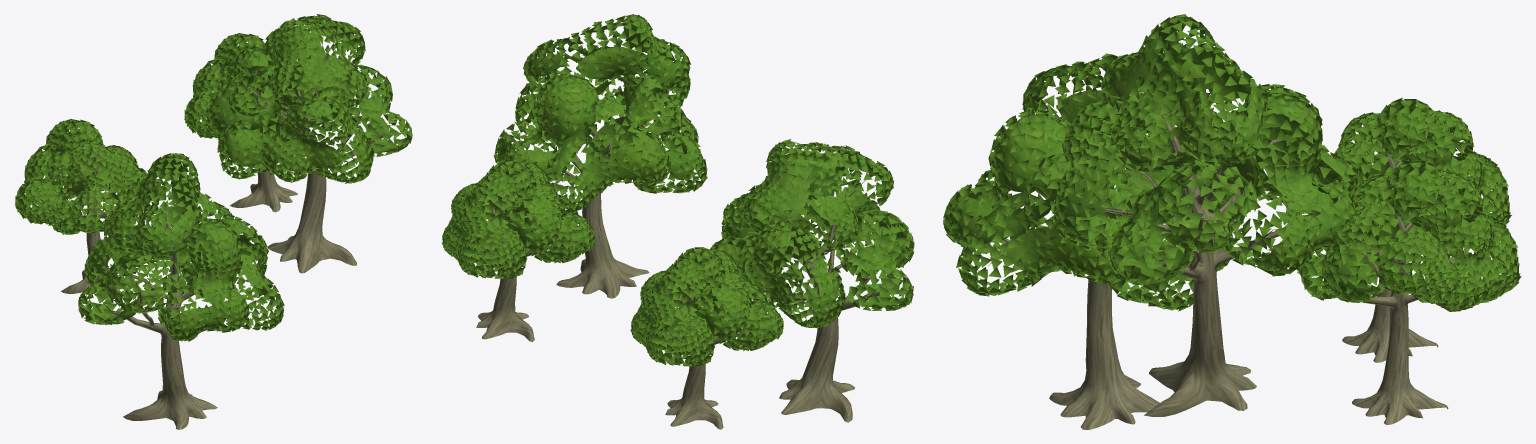
Rendered from SM_ENV_LKNVLD_TreeSet_N.FBX.
3 views of the same model, side by side, from view 1: azimuth 30°, elevation 25°; view 2: azimuth 150°, elevation 25°; view 3: azimuth 270°, elevation 25° (orthographic). The views are drawn at different scales.
Visible parts, largest first — view 1: SM_ENV_LKNVLD_TreeSet_N; view 2: SM_ENV_LKNVLD_TreeSet_N; view 3: SM_ENV_LKNVLD_TreeSet_N.
Part boxes in pixels (x1,y1,x2,y2): SM_ENV_LKNVLD_TreeSet_N: [14, 14, 412, 429]; SM_ENV_LKNVLD_TreeSet_N: [441, 14, 914, 429]; SM_ENV_LKNVLD_TreeSet_N: [943, 14, 1521, 429].
Bounding box in the file's own units: 1965 × 1906 × 1998.
